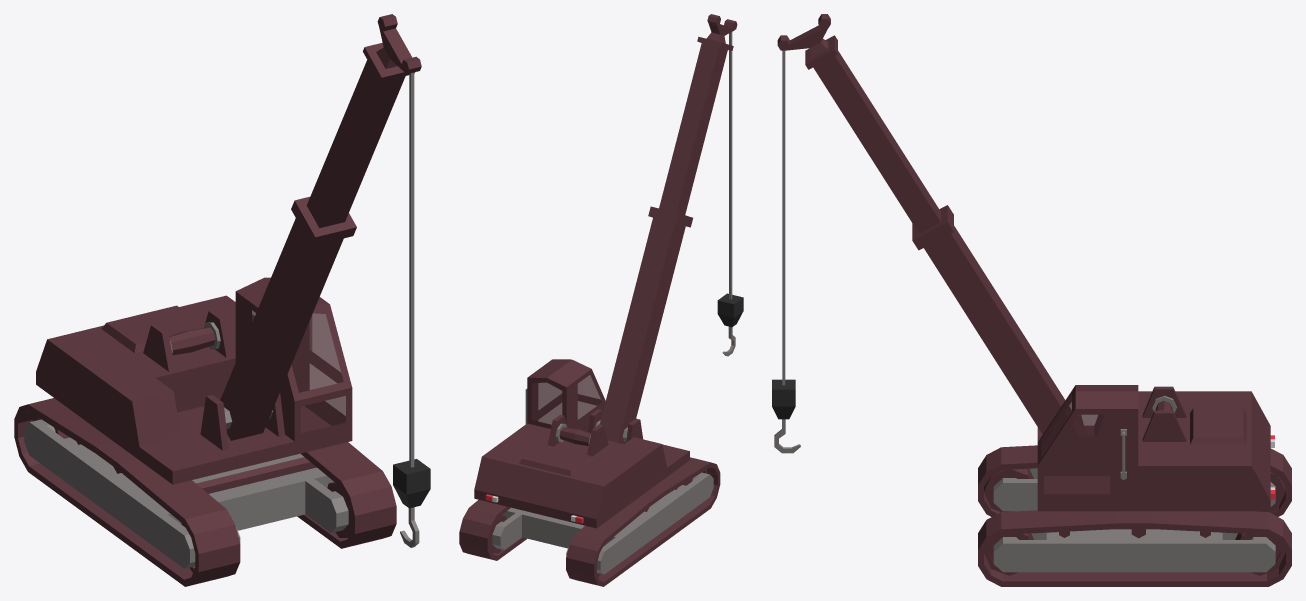
The model's file is crane-crawler.fbx.
The picture shows the model from 3 angles, left to right: view 1: azimuth 30°, elevation 25°; view 2: azimuth 150°, elevation 25°; view 3: azimuth 270°, elevation 25°; orthographic projection. The views are drawn at different scales.
Visible parts, largest first — view 1: crane-crawler-base, crane-crawler-arm, crane-crawler-belt, crane-crawler-chassis, crane-crawler-hook, crane-crawler-wheel_TF; view 2: crane-crawler-base, crane-crawler-arm, crane-crawler-belt, crane-crawler-chassis, crane-crawler-hook; view 3: crane-crawler-base, crane-crawler-arm, crane-crawler-belt, crane-crawler-chassis, crane-crawler-hook, crane-crawler-wheel_F, crane-crawler-wheel_B.
Part boxes in pixels (box(x1,y1,x2,y2)): crane-crawler-base: box(36, 277, 352, 484); crane-crawler-arm: box(220, 14, 421, 440); crane-crawler-belt: box(14, 398, 396, 586); crane-crawler-chassis: box(24, 419, 348, 568); crane-crawler-hook: box(393, 72, 430, 547); crane-crawler-wheel_TF: box(196, 457, 316, 493); crane-crawler-base: box(474, 359, 689, 528); crane-crawler-arm: box(595, 14, 737, 444); crane-crawler-belt: box(459, 457, 720, 586); crane-crawler-chassis: box(492, 472, 713, 574); crane-crawler-hook: box(717, 32, 743, 356); crane-crawler-base: box(1037, 385, 1274, 511); crane-crawler-arm: box(777, 14, 1087, 435); crane-crawler-belt: box(978, 445, 1291, 586); crane-crawler-chassis: box(993, 468, 1275, 572); crane-crawler-hook: box(772, 50, 800, 453); crane-crawler-wheel_F: box(984, 468, 1033, 575); crane-crawler-wheel_B: box(1235, 472, 1285, 575).
Bounding box in the file's own units: 3.1 × 9.29 × 8.27.
